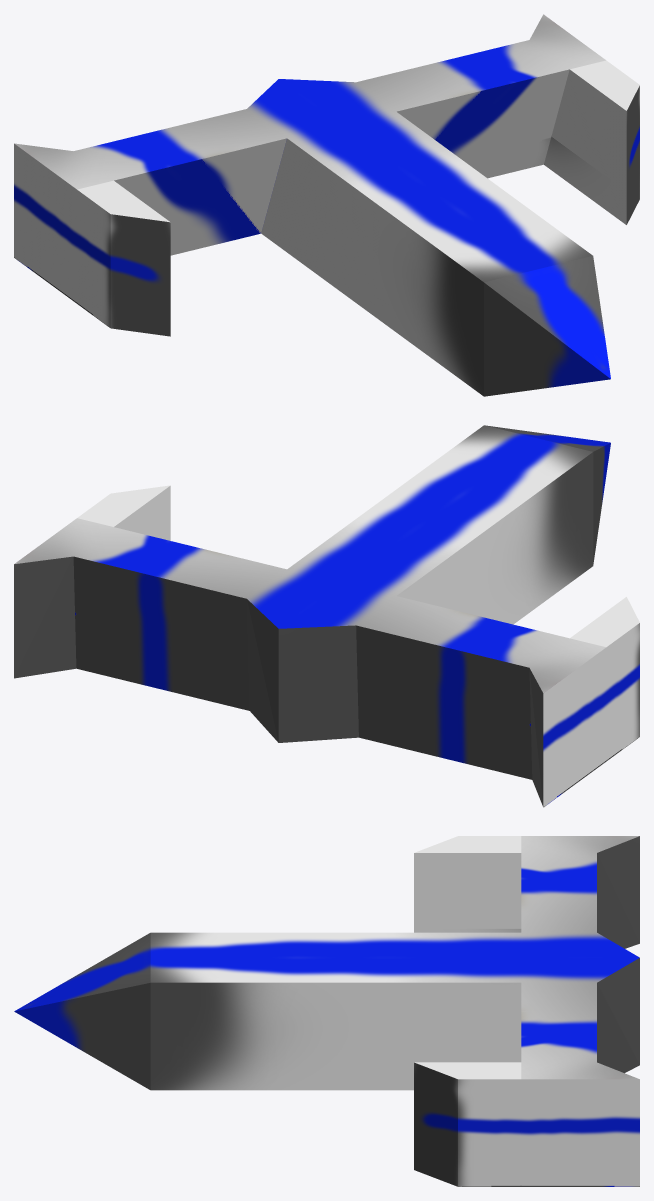
The model's file is Player.obj.
The picture shows the model from 3 angles, top to bottom: view 1: azimuth 30°, elevation 25°; view 2: azimuth 150°, elevation 25°; view 3: azimuth 270°, elevation 25°; orthographic projection. The views are drawn at different scales.
Visible parts, largest first — view 1: Cube; view 2: Cube; view 3: Cube.
Part boxes in pixels (x1,y1,x2,y2): Cube: (14, 14, 639, 396); Cube: (14, 425, 639, 807); Cube: (14, 836, 639, 1186).
Bounding box in the file's own units: 9.7 × 2 × 10.55.
1 material, 1 textured.
